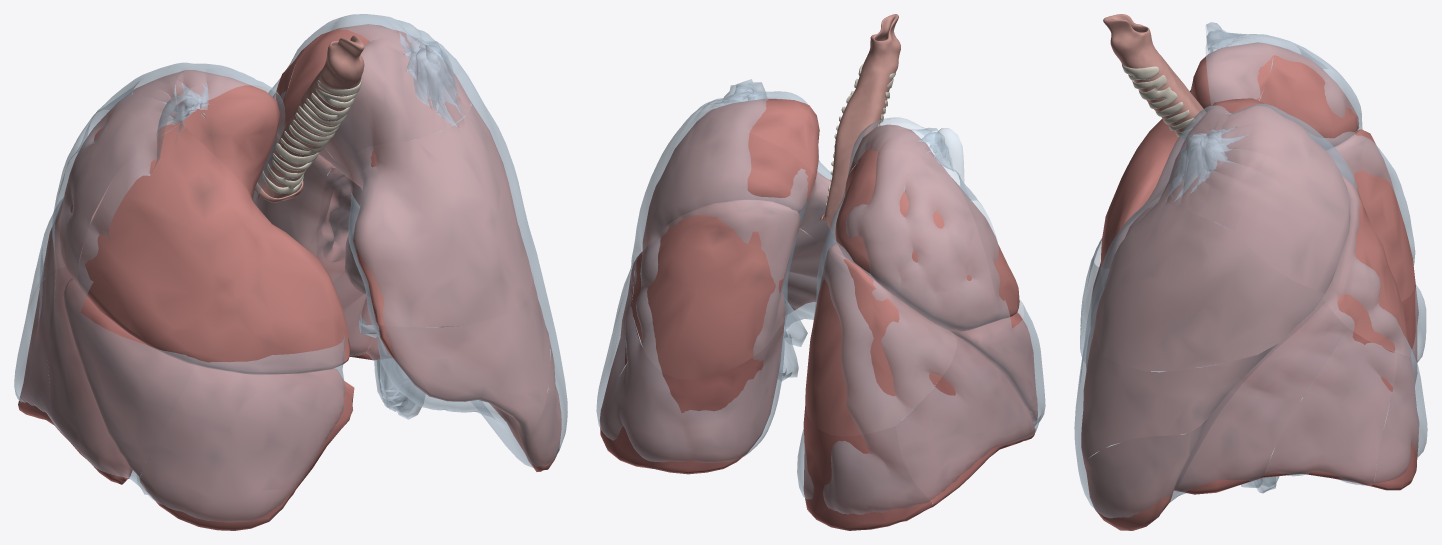
The model's file is x-pleura.4a66f020.glb.
3 views of the same model, side by side, from view 1: azimuth 30°, elevation 25°; view 2: azimuth 150°, elevation 25°; view 3: azimuth 270°, elevation 25° (orthographic). The views are drawn at different scales.
Visible parts, largest first — view 1: Pleura, Left lung, upper lobe, Right lung, upper lobe, Right lung, middle lobe, Right lung, lower lobe, Windpipe, Left lung, lower lobe; view 2: Pleura, Left lung, upper lobe, Right lung, upper lobe, Right lung, lower lobe, Left lung, lower lobe, Windpipe, Right lung, middle lobe; view 3: Pleura, Left lung, upper lobe, Left lung, lower lobe, Right lung, upper lobe, Windpipe, Right lung, lower lobe, Right lung, middle lobe.
Part boxes in pixels (x1=…): Pleura: x1=14, y1=14, x2=567, y2=521; Left lung, upper lobe: x1=252, y1=24, x2=561, y2=471; Right lung, upper lobe: x1=39, y1=70, x2=350, y2=375; Right lung, middle lobe: x1=63, y1=278, x2=354, y2=530; Right lung, lower lobe: x1=18, y1=267, x2=132, y2=484; Windpipe: x1=254, y1=35, x2=364, y2=202; Left lung, lower lobe: x1=316, y1=164, x2=391, y2=360; Pleura: x1=596, y1=79, x2=1045, y2=514; Left lung, upper lobe: x1=632, y1=98, x2=835, y2=379; Right lung, upper lobe: x1=805, y1=124, x2=1019, y2=436; Right lung, lower lobe: x1=803, y1=333, x2=1035, y2=530; Left lung, lower lobe: x1=599, y1=258, x2=784, y2=474; Windpipe: x1=820, y1=14, x2=900, y2=241; Right lung, middle lobe: x1=949, y1=312, x2=1037, y2=426; Pleura: x1=1074, y1=22, x2=1427, y2=517; Left lung, upper lobe: x1=1081, y1=98, x2=1410, y2=530; Left lung, lower lobe: x1=1174, y1=299, x2=1419, y2=494; Right lung, upper lobe: x1=1100, y1=42, x2=1415, y2=301; Windpipe: x1=1103, y1=14, x2=1205, y2=140; Right lung, lower lobe: x1=1215, y1=222, x2=1418, y2=396; Right lung, middle lobe: x1=1086, y1=223, x2=1217, y2=367.
Size of the model in its own units: 0.2949 by 0.3 by 0.2192.
